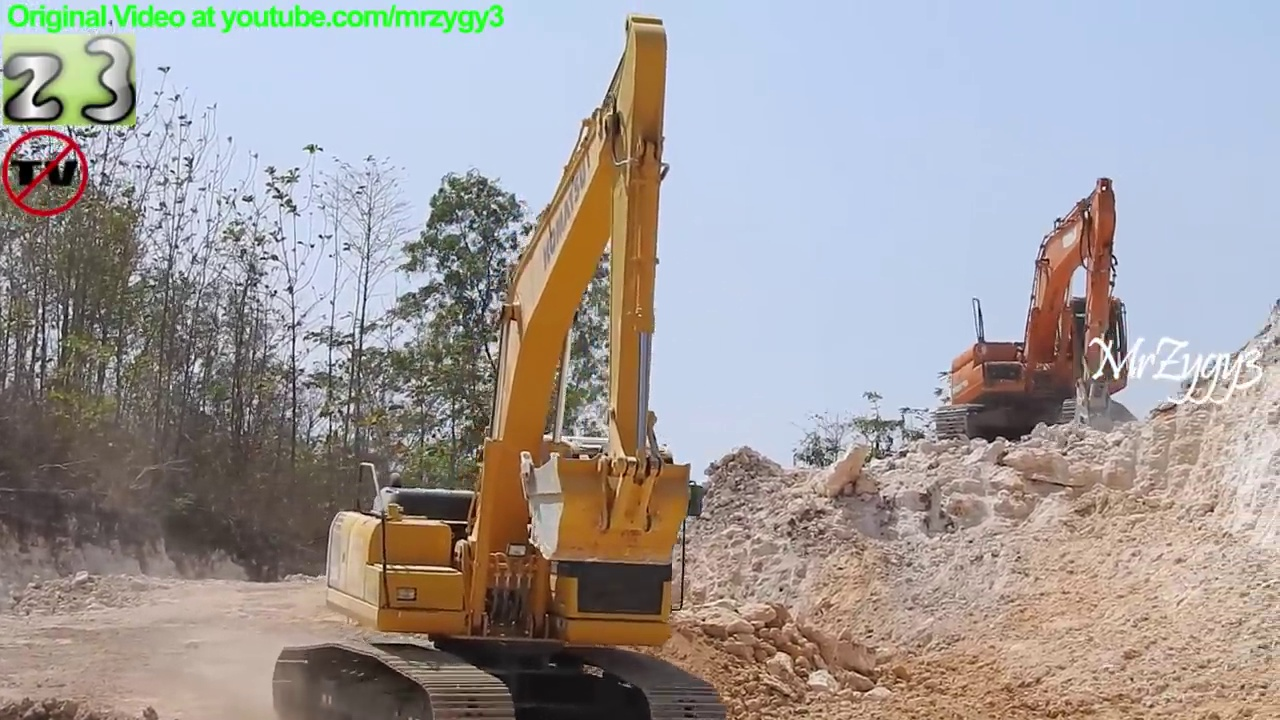excavator: (268, 13, 736, 720), (929, 174, 1147, 452)
